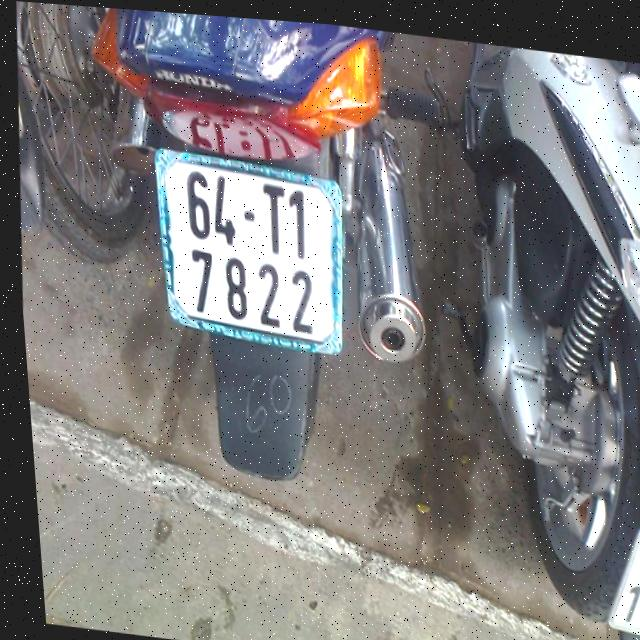motorcycle: (69, 5, 461, 510), (408, 37, 640, 640)
plate: (142, 145, 353, 359)
